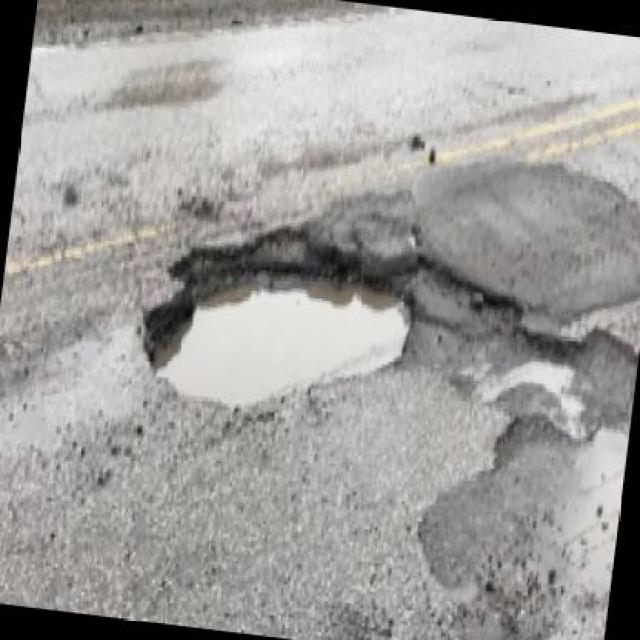pothole1: (133, 194, 430, 428), (500, 303, 638, 449)
